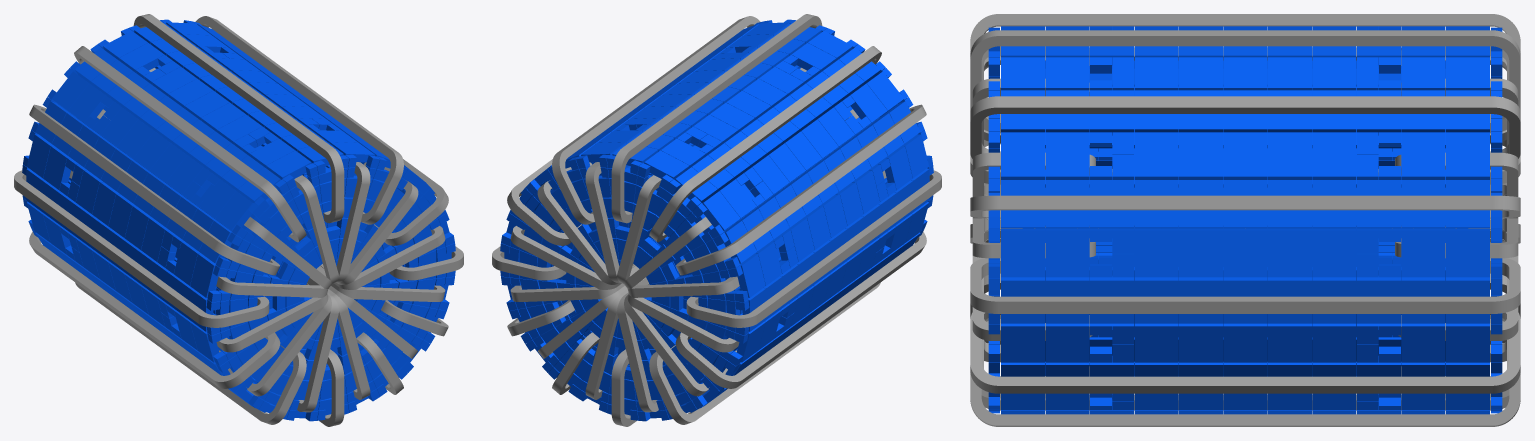
The model's file is chambers-and-coils.obj.
3 renders of one model, left to right at view 1: azimuth 30°, elevation 25°; view 2: azimuth 150°, elevation 25°; view 3: azimuth 270°, elevation 25°, orthographic. The views are drawn at different scales.
Visible parts, largest first — view 1: coil_barrel_03, coil_barrel_06, coil_barrel_07, coil_barrel_04, coil_barrel_02, coil_barrel_05, coil_barrel_08, coil_endcap_plus_01, coil_endcap_plus_07, coil_endcap_plus_02, coil_endcap_plus_06, coil_endcap_plus_08 (+72 smaller); view 2: coil_barrel_03, coil_barrel_06, coil_barrel_07, coil_barrel_04, coil_barrel_02, coil_barrel_05, coil_barrel_08, coil_endcap_minus_01, coil_endcap_minus_07, coil_endcap_minus_02, coil_endcap_minus_06, coil_endcap_minus_08 (+72 smaller); view 3: coil_barrel_00, coil_barrel_02, coil_barrel_11, coil_barrel_03, coil_barrel_01, coil_barrel_10, coil_barrel_04, chamber_B3_F01_Z05, chamber_B3_F01_Z01, chamber_B3_F01_Z03, chamber_B3_F01_Z07, chamber_B3_F01_Z09 (+107 smaller).
Boxes of the visible parts, x1,y1,x2,y2 form: coil_barrel_03: (133, 14, 344, 223); coil_barrel_06: (14, 170, 269, 327); coil_barrel_07: (29, 231, 280, 388); coil_barrel_04: (74, 46, 306, 242); coil_barrel_02: (195, 16, 403, 224); coil_barrel_05: (29, 104, 279, 275); coil_barrel_08: (75, 282, 306, 424); coil_endcap_plus_01: (337, 162, 418, 284); coil_endcap_plus_07: (219, 295, 331, 396); coil_endcap_plus_02: (320, 162, 370, 282); coil_endcap_plus_06: (216, 283, 328, 352); coil_endcap_plus_08: (297, 292, 338, 412); coil_barrel_03: (611, 14, 822, 223); coil_barrel_06: (686, 170, 941, 327); coil_barrel_07: (675, 231, 926, 388); coil_barrel_04: (649, 46, 881, 242); coil_barrel_02: (552, 16, 760, 224); coil_barrel_05: (676, 104, 926, 275); coil_barrel_08: (649, 282, 880, 424); coil_endcap_minus_01: (537, 162, 618, 284); coil_endcap_minus_07: (624, 295, 736, 396); coil_endcap_minus_02: (585, 162, 635, 282); coil_endcap_minus_06: (627, 283, 739, 352); coil_endcap_minus_08: (617, 292, 658, 412); coil_barrel_00: (970, 258, 1520, 313); coil_barrel_02: (970, 96, 1520, 168); coil_barrel_11: (970, 312, 1520, 393); coil_barrel_03: (970, 30, 1520, 133); coil_barrel_01: (970, 195, 1520, 218); coil_barrel_10: (970, 319, 1520, 426); coil_barrel_04: (970, 14, 1520, 117); chamber_B3_F01_Z05: (1223, 228, 1267, 277); chamber_B3_F01_Z01: (1401, 228, 1445, 277); chamber_B3_F01_Z03: (1312, 228, 1356, 277); chamber_B3_F01_Z07: (1134, 228, 1178, 277); chamber_B3_F01_Z09: (1045, 228, 1089, 277).
Size of the model in its own units: 18.1 by 18.1 by 24.1.
